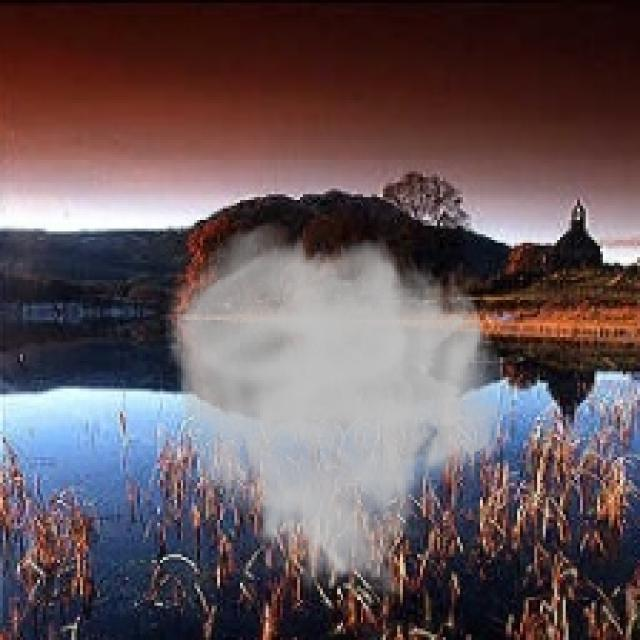Smoke: (163, 220, 508, 603)
